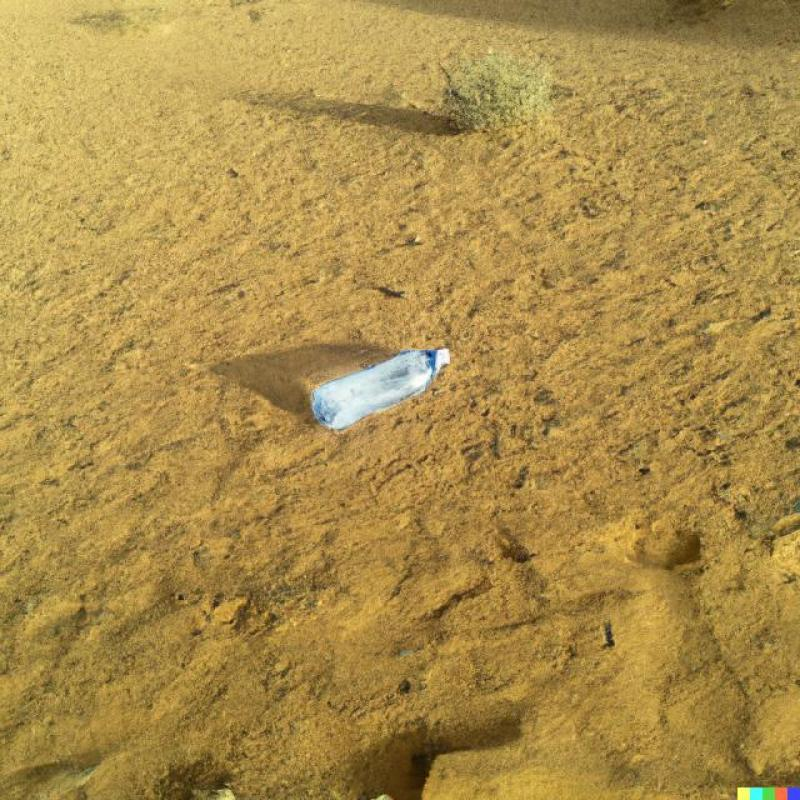botella: (312, 348, 450, 430)
